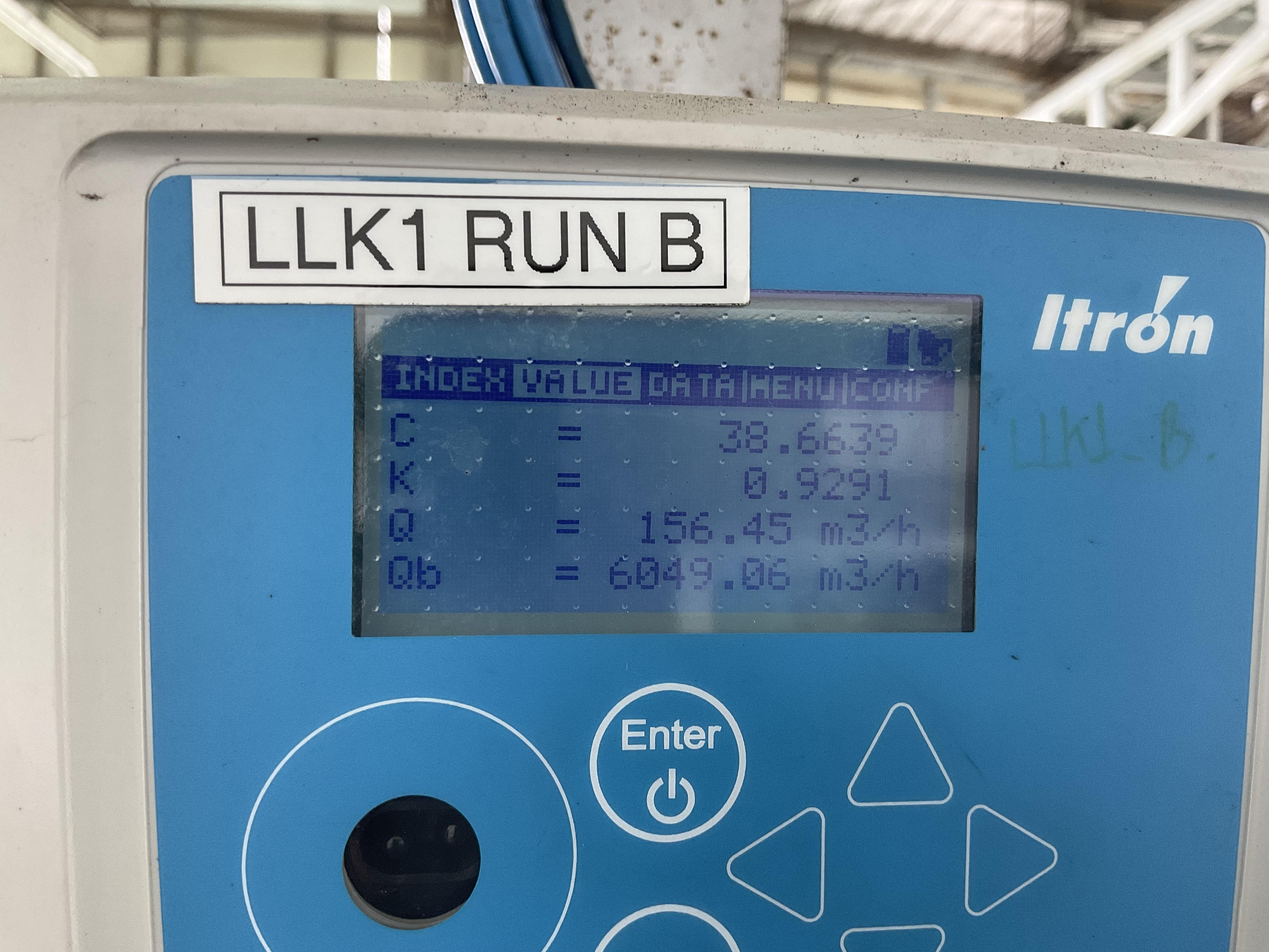digital_screen: (353, 288, 982, 637)
